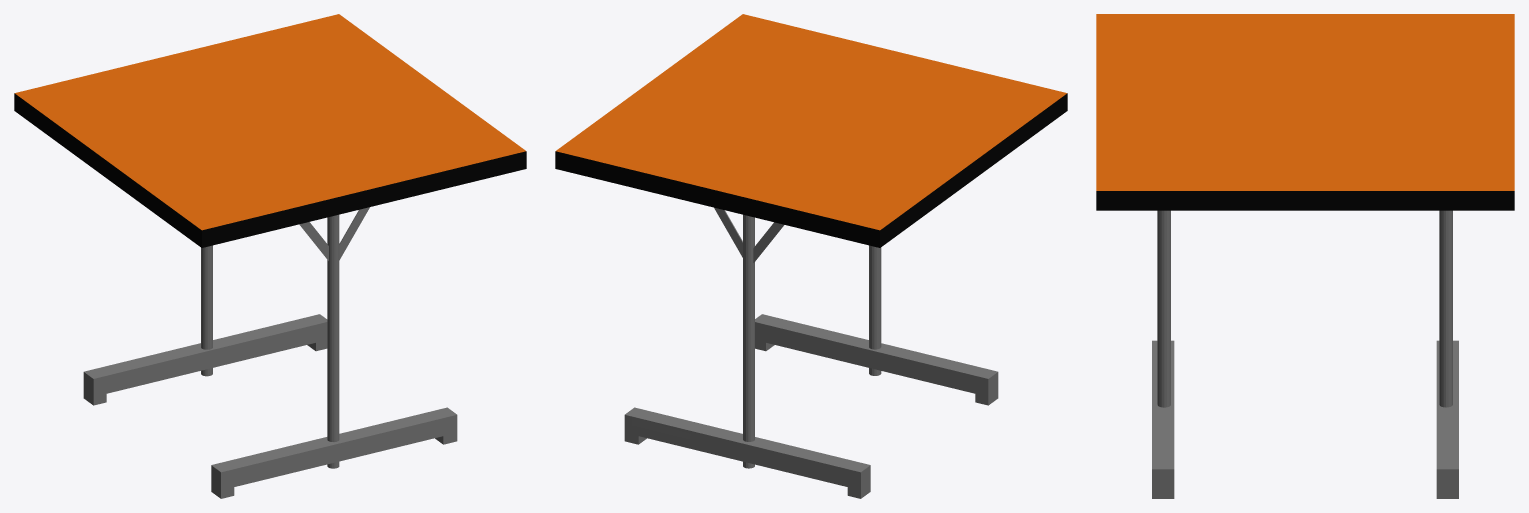
Rendered from TableMeshed.fbx.
3 views of the same model, side by side, from view 1: azimuth 30°, elevation 25°; view 2: azimuth 150°, elevation 25°; view 3: azimuth 270°, elevation 25° (orthographic). The views are drawn at different scales.
Parts seen in each view (by area): view 1: table, table_cell.036; view 2: table, table_cell.036, table_cell.065, table_cell.084, table_cell.038, table_cell.012, table_cell.070, table_cell.033, table_cell.072, table_cell.011; view 3: table, table_cell.036, table_cell.065.
Boxes of the visible parts, <box> form: table: <box>14,30,526,498</box>; table_cell.036: <box>271,14,418,72</box>; table: <box>555,14,1066,498</box>; table_cell.036: <box>555,92,635,177</box>; table_cell.065: <box>743,214,754,468</box>; table_cell.084: <box>794,453,865,485</box>; table_cell.038: <box>922,359,985,386</box>; table_cell.012: <box>631,413,695,439</box>; table_cell.070: <box>759,332,816,354</box>; table_cell.033: <box>759,323,822,345</box>; table_cell.072: <box>626,425,689,448</box>; table_cell.011: <box>924,372,981,399</box>; table: <box>1096,14,1514,498</box>; table_cell.036: <box>1334,154,1514,190</box>; table_cell.065: <box>1443,210,1452,407</box>.
Size of the model in its own units: 357 by 313 by 357.
